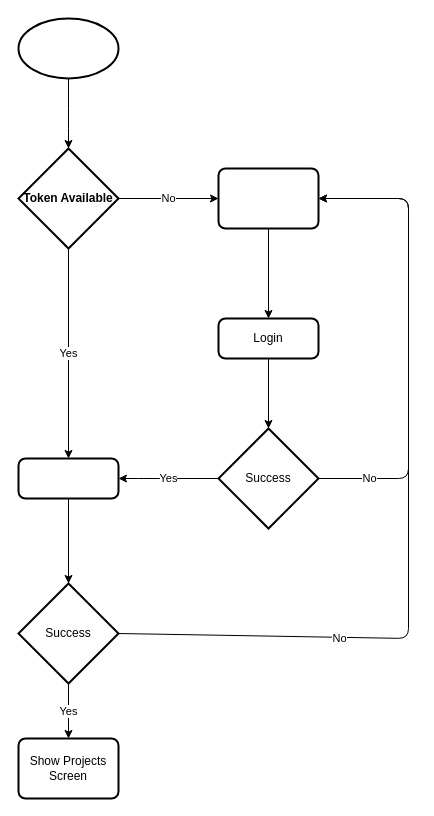
Some shapes in this 434 by 816 pixel diagram are drawn without their labels. The shapes that lost their labels are listed below. From the top down, each one's centre as x and y in pixels, then its label:
At point (68, 48): "Start".
At point (268, 198): "Show Login Screen".
At point (68, 478): "Fetch Projects".
